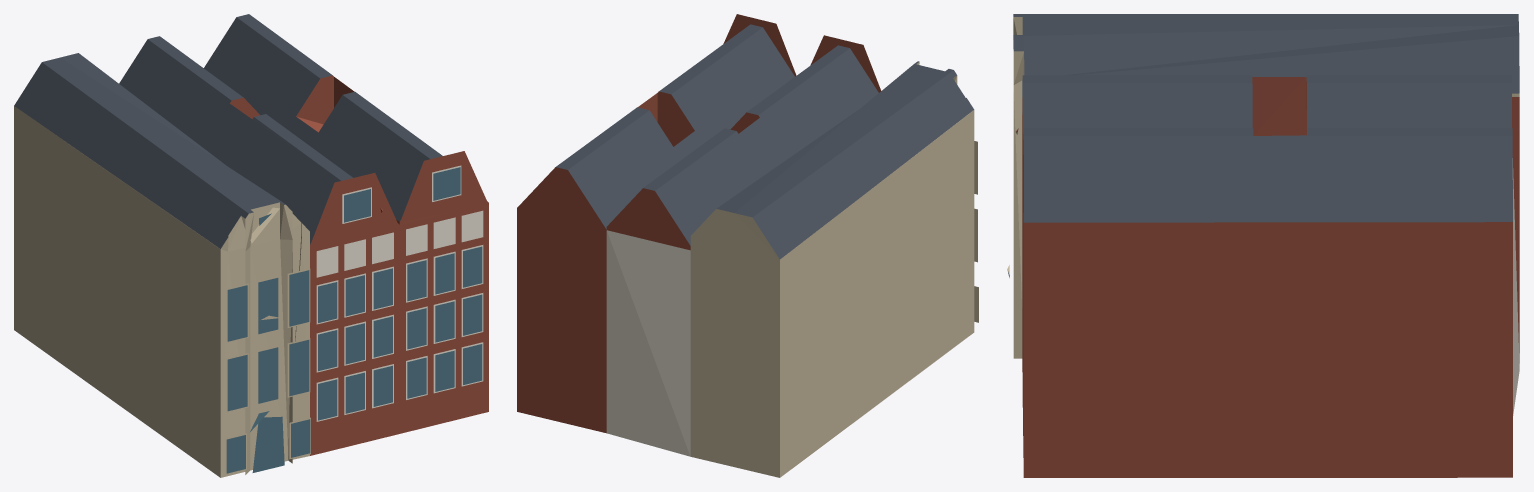
The model's file is foam.lod2.glb.
3 renders of one model, left to right at view 1: azimuth 30°, elevation 25°; view 2: azimuth 150°, elevation 25°; view 3: azimuth 270°, elevation 25°, orthographic. The views are drawn at different scales.
Parts seen in each view (by area): view 1: lod2; view 2: lod2; view 3: lod2.
Part boxes in pixels (box(x1,y1,x2,y2)): lod2: box(14, 14, 488, 477); lod2: box(517, 14, 978, 477); lod2: box(1007, 14, 1519, 477).
Size of the model in its own units: 22.53 by 21.15 by 30.08.
